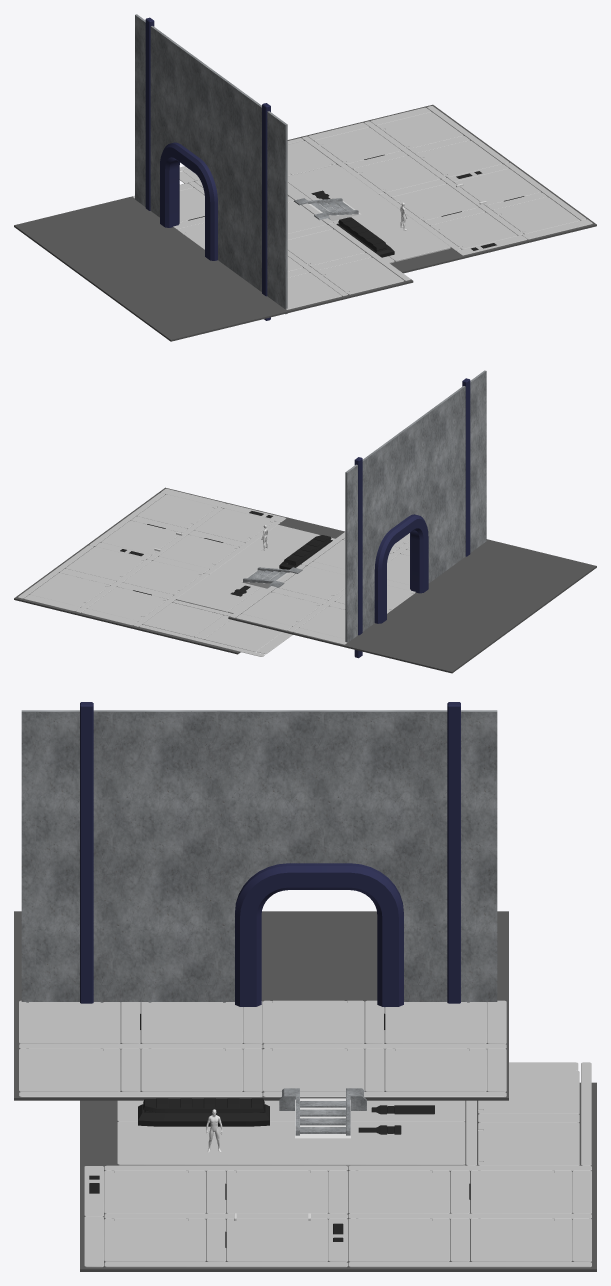
File: IndoorIndustrialLevel.gltf
3 views of the same model, one above another, from view 1: azimuth 30°, elevation 25°; view 2: azimuth 150°, elevation 25°; view 3: azimuth 270°, elevation 25° (orthographic). The views are drawn at different scales.
Visible parts, largest first — view 1: Cube.059, Floor.001, Cube.031, Cube.058, Floor, Cube.054, Cube.020, Cube.022, Cube.010, Cube.002, Cube.016, Cube.013 (+19 smaller); view 2: Cube.059, Floor.001, Cube.031, Cube.058, Floor, Cube.063, Cube.002, Cube.016, Cube.022, Cube.013, Cube.020, Cube.008 (+20 smaller); view 3: Cube.059, Floor.001, Cube.031, Cube.058, Floor, Cube.037, Cube.008, Cube.013, Cube.020, Cube, Cube.063, Cube.002 (+47 smaller).
Part boxes in pixels (bbox=[...]): Cube.059: bbox=[135, 14, 287, 314]; Floor.001: bbox=[14, 180, 413, 341]; Cube.031: bbox=[287, 166, 450, 261]; Cube.058: bbox=[160, 142, 217, 260]; Floor: bbox=[287, 104, 596, 273]; Cube.054: bbox=[317, 257, 403, 294]; Cube.020: bbox=[377, 112, 463, 149]; Cube.022: bbox=[415, 140, 502, 177]; Cube.010: bbox=[430, 212, 517, 249]; Cube.002: bbox=[493, 197, 579, 233]; Cube.016: bbox=[353, 155, 439, 192]; Cube.013: bbox=[314, 127, 401, 164]; Cube.059: bbox=[345, 370, 486, 642]; Floor.001: bbox=[228, 538, 596, 673]; Cube.031: bbox=[176, 525, 320, 612]; Cube.058: bbox=[374, 514, 428, 623]; Floor: bbox=[14, 487, 344, 654]; Cube.063: bbox=[143, 602, 222, 636]; Cube.002: bbox=[137, 494, 217, 528]; Cube.016: bbox=[123, 561, 203, 594]; Cube.022: bbox=[65, 546, 145, 580]; Cube.013: bbox=[87, 587, 167, 621]; Cube.020: bbox=[30, 573, 109, 607]; Cube.008: bbox=[159, 534, 238, 568]; Cube.059: bbox=[21, 710, 497, 1002]; Floor.001: bbox=[14, 911, 508, 1100]; Cube.031: bbox=[117, 1121, 465, 1166]; Cube.058: bbox=[235, 863, 403, 1007]; Floor: bbox=[80, 1082, 596, 1271]; Cube.037: bbox=[262, 1000, 364, 1043]; Cube.008: bbox=[226, 1170, 328, 1213]; Cube.013: bbox=[470, 1170, 572, 1213]; Cube.020: bbox=[470, 1218, 572, 1261]; Cube: bbox=[226, 1218, 328, 1261]; Cube.063: bbox=[478, 1122, 579, 1165]; Cube.002: bbox=[104, 1218, 205, 1261].
Bounding box in the file's own units: 32.18 × 14.77 × 23.05.
